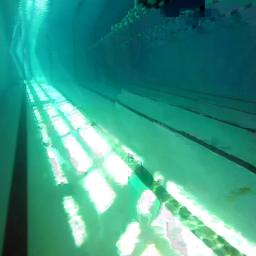Full: (136, 0, 205, 18)
